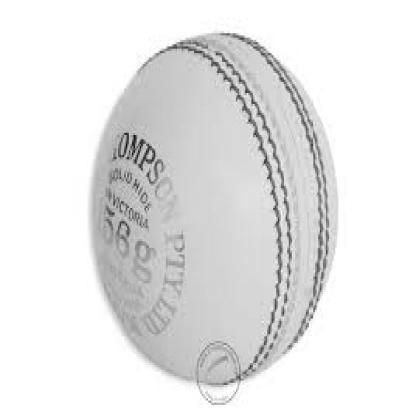bukan telur: (90, 33, 333, 383)
